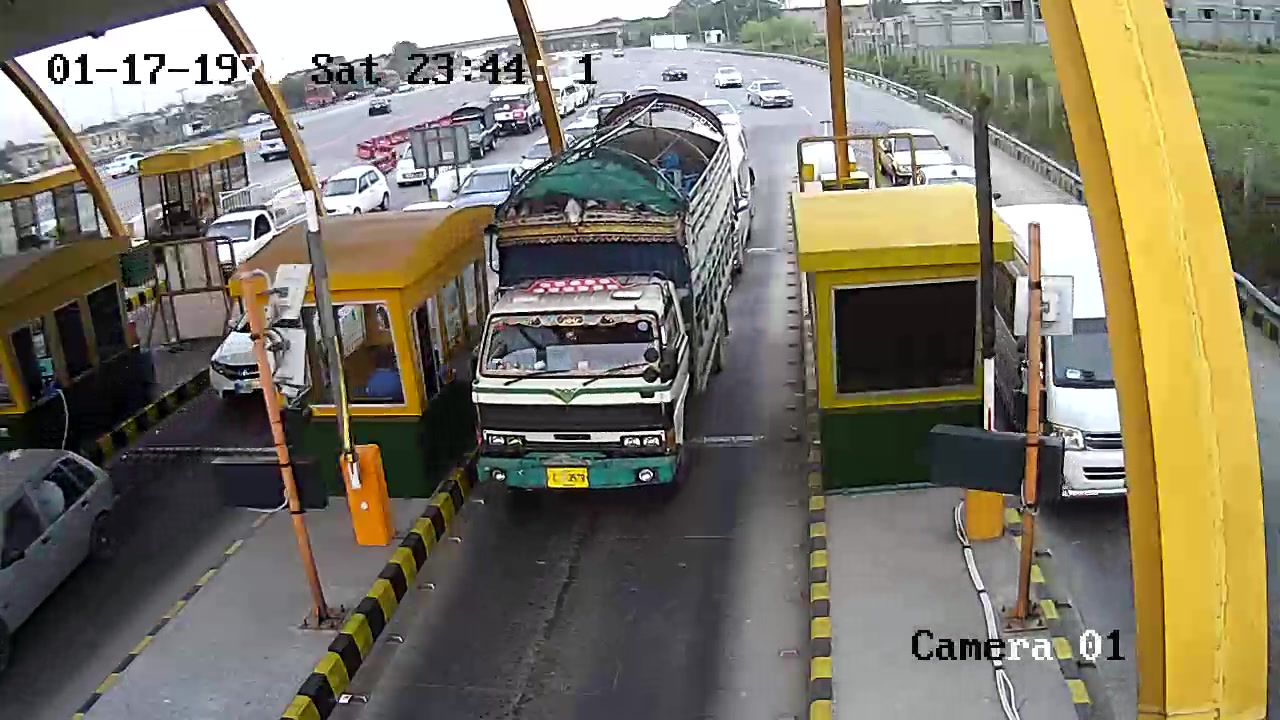F5: (470, 95, 742, 509)
